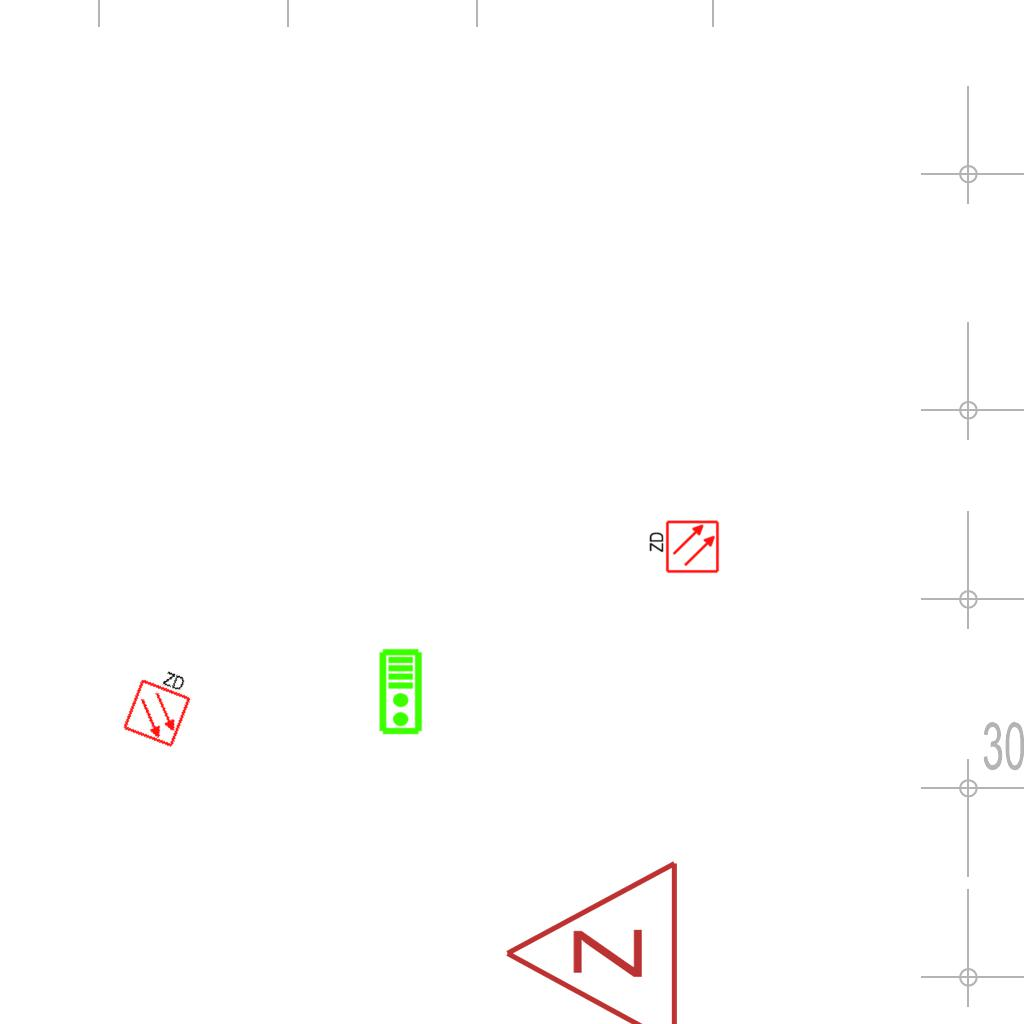Gegensprechanlage_mit_Video: (378, 648, 425, 736)
ZD_Melder_in_Zwischendecke_mit_Revisionsoeffnung_mind_40_x_40_cm: (119, 659, 200, 749), (646, 519, 720, 576)
Zimmersignalleuchte: (492, 858, 692, 1024)
